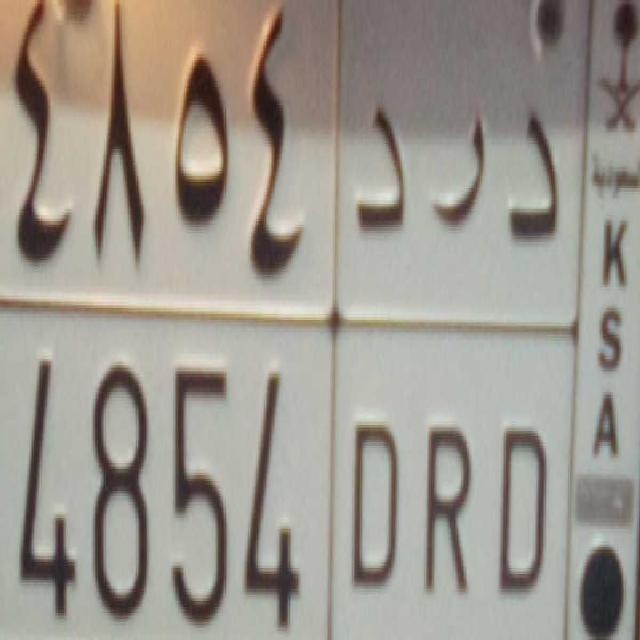license_plate: (1, 297, 563, 640)
